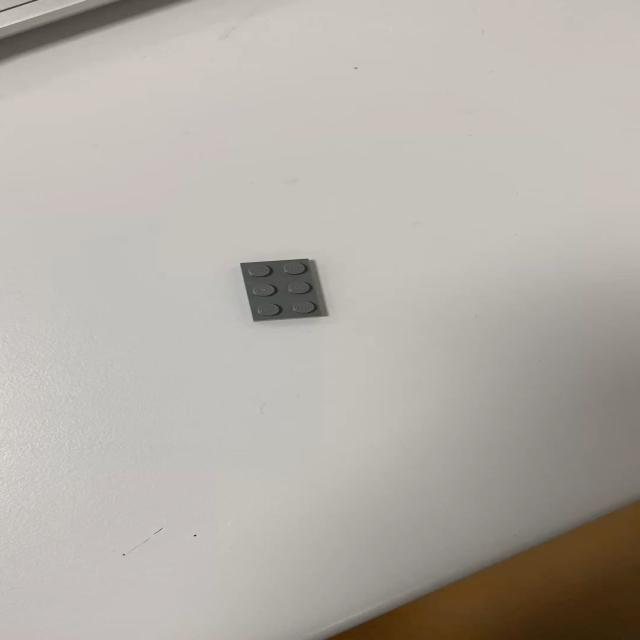C3x2x0: (238, 256, 328, 321)
